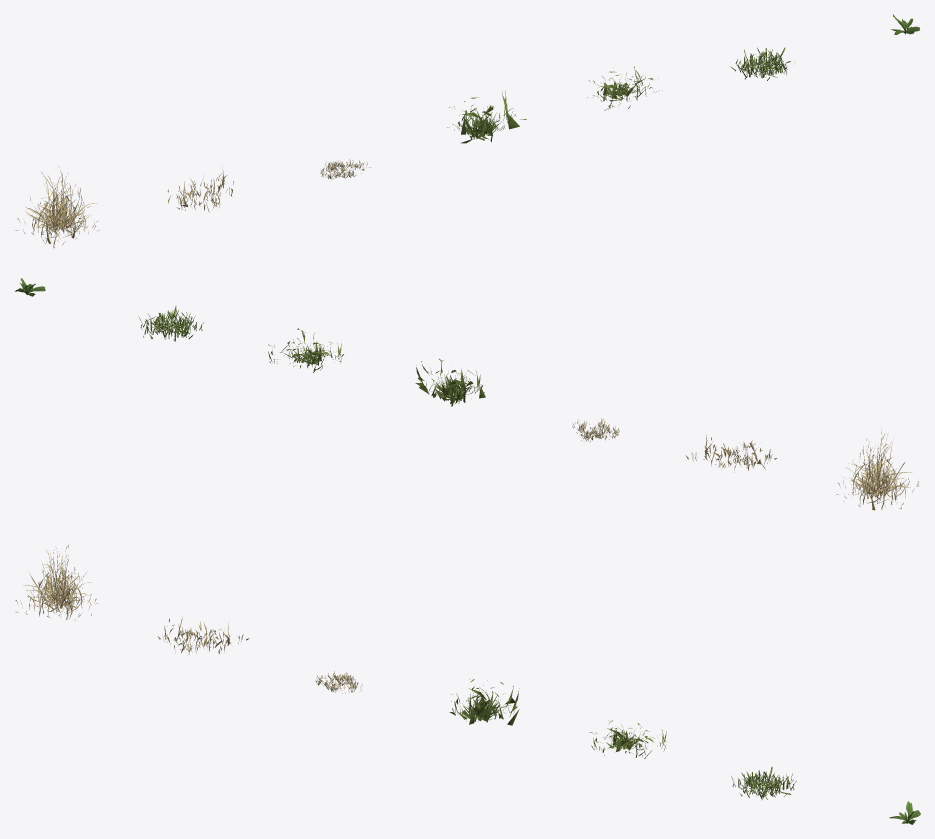
Rendered from ENV_Grass.glb.
3 views of the same model, one above another, from view 1: azimuth 30°, elevation 25°; view 2: azimuth 150°, elevation 25°; view 3: azimuth 330°, elevation 25° (orthographic).
Parts seen in each view (by area): view 1: G_DRY_TALL, G_GREEN_1, G_GREEN_3, G_GREEN_2, G_DRY_LOW; view 2: G_DRY_TALL, G_GREEN_1, G_GREEN_3, G_GREEN_2, G_DRY_LOW; view 3: G_DRY_TALL, G_GREEN_1, G_GREEN_3, G_GREEN_2, G_DRY_LOW.
Boxes of the visible parts, bbox=[...] form: G_DRY_TALL: bbox=[15, 165, 99, 248]; G_GREEN_1: bbox=[447, 91, 526, 143]; G_GREEN_3: bbox=[730, 47, 790, 80]; G_GREEN_2: bbox=[587, 66, 662, 110]; G_DRY_LOW: bbox=[167, 165, 233, 212]; G_DRY_TALL: bbox=[836, 428, 918, 510]; G_GREEN_1: bbox=[415, 358, 485, 406]; G_GREEN_3: bbox=[138, 306, 203, 341]; G_GREEN_2: bbox=[268, 328, 343, 372]; G_DRY_LOW: bbox=[685, 435, 776, 472]; G_DRY_TALL: bbox=[15, 544, 98, 621]; G_GREEN_1: bbox=[449, 679, 519, 725]; G_GREEN_3: bbox=[731, 766, 796, 799]; G_GREEN_2: bbox=[589, 720, 666, 758]; G_DRY_LOW: bbox=[157, 616, 249, 654].
Size of the model in its own units: 9.52 by 0.7342 by 0.6989.
